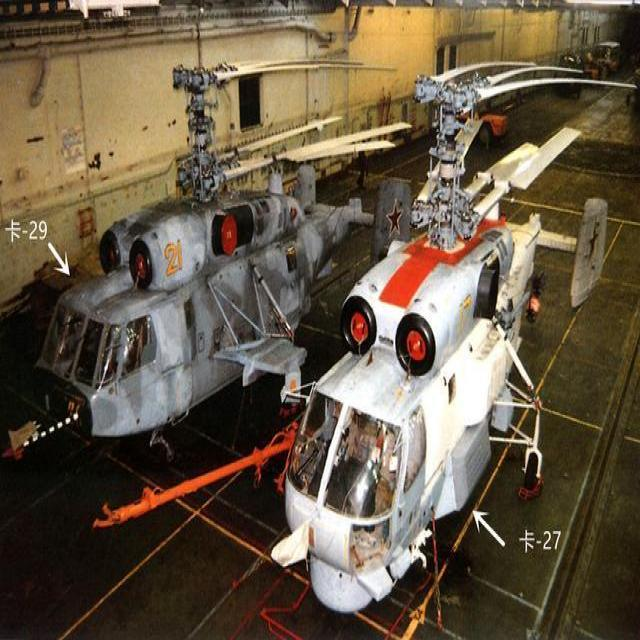MIL_HELO: (275, 55, 640, 607), (15, 36, 414, 457)
